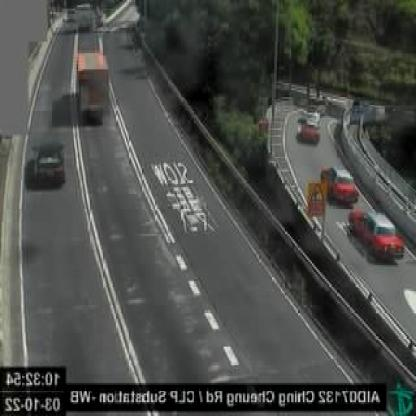Car: (350, 208, 404, 262), (322, 161, 359, 203), (34, 140, 64, 188)
Truck: (78, 48, 109, 122)
